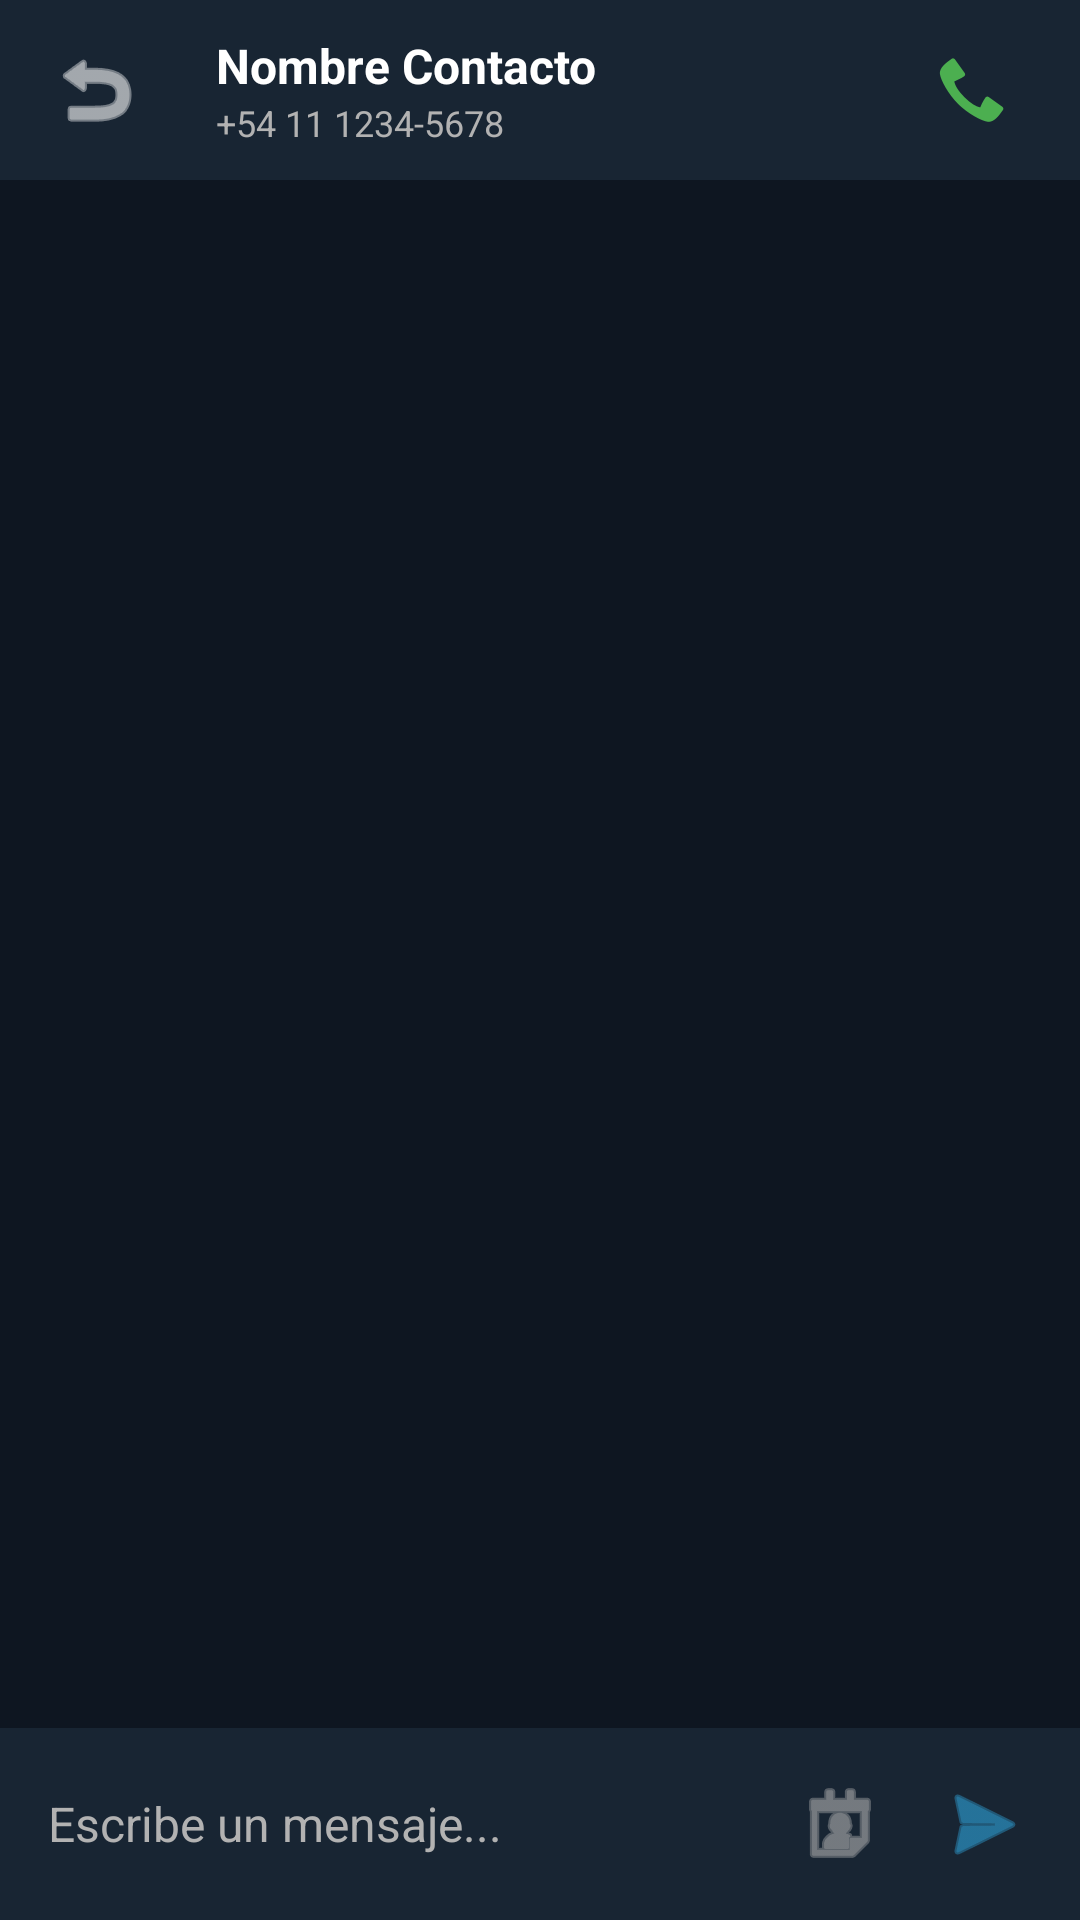

Icons on this 1080x1920 Android screen, each with its box as (x1, y1, x2, y2):
Back: (63, 59, 132, 122)
Call: (940, 58, 1004, 122)
Programar Mensaje: (809, 1788, 871, 1858)
Send: (954, 1794, 1015, 1855)
